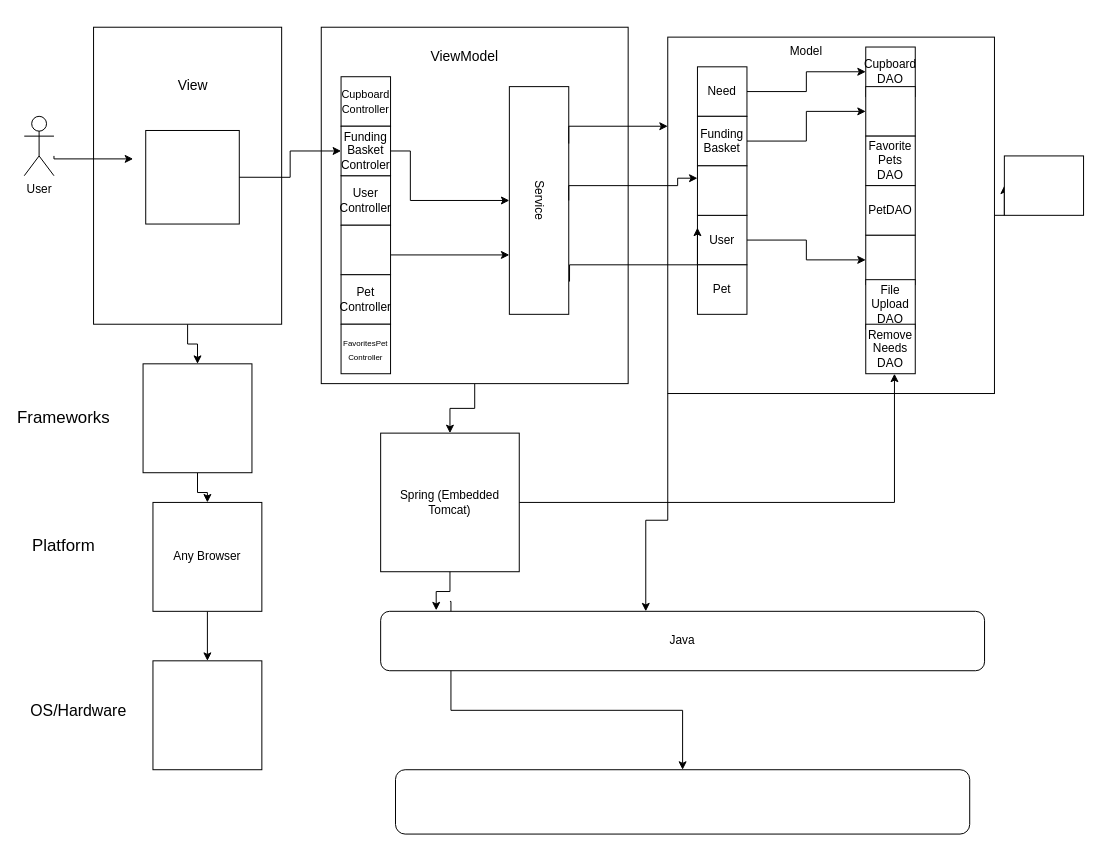
Some shapes in this 1101 by 851 pixel diagram are drawn without their labels. The centre of each missing label's shape, as x and y in pixels:
"Angular & Typescript" belongs at point 197,418.
"Any OS" belongs at point 207,715.
"Any OS AND HW" belongs at point 682,801.
"Client UI" belongs at point 192,176.
"FavoritePet" belongs at point 721,190.
"FileUpload Controller" belongs at point 365,249.
"Funding Basket DAO" belongs at point 890,111.
"Storage" belongs at point 1043,185.
"UserDAO" belongs at point 890,259.
